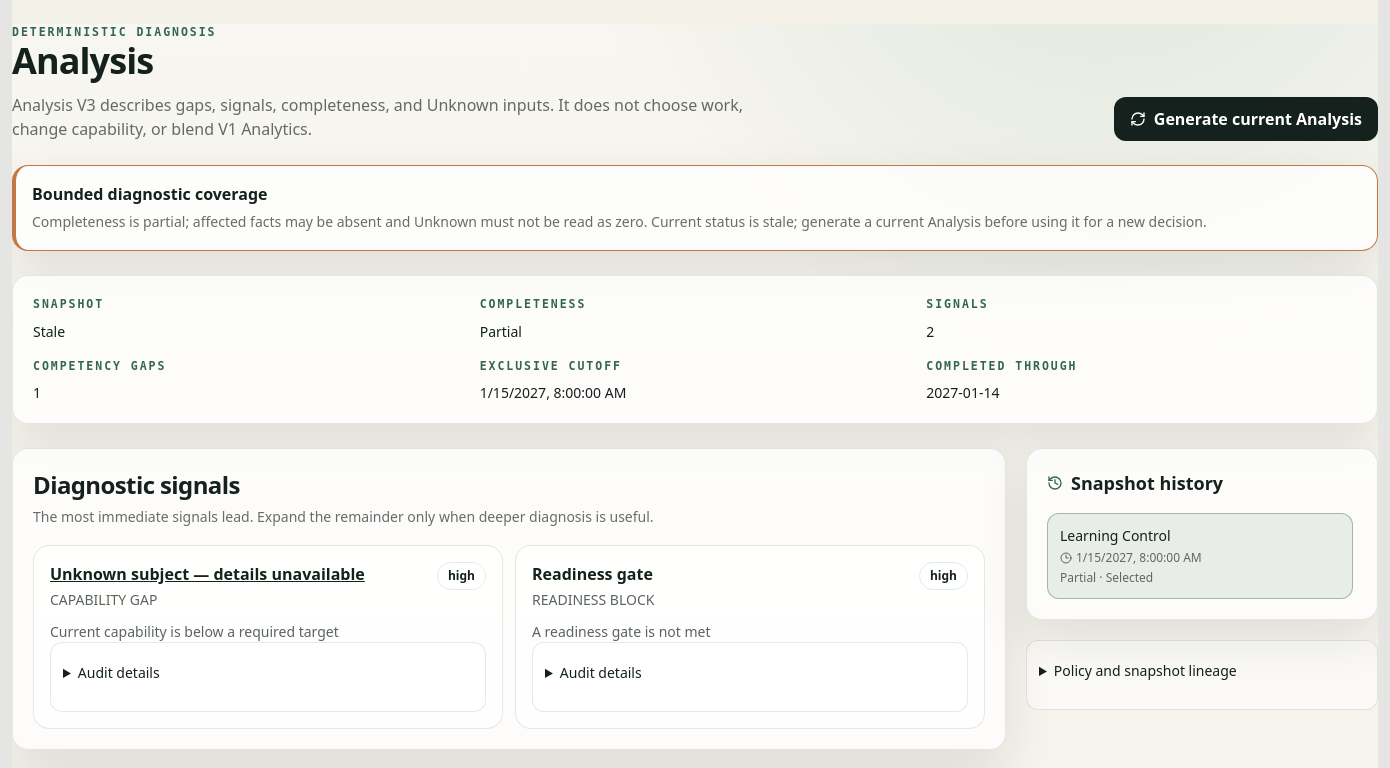
Scenario: Analysis V3 diagnostic surface › explicitly generates a current Analysis snapshot without requiring a raw ID
The width and height of the screenshot is (1390, 768).
Click the button "Generate current Analysis". click: click(1246, 119)
box: [1114,97,1378,141]
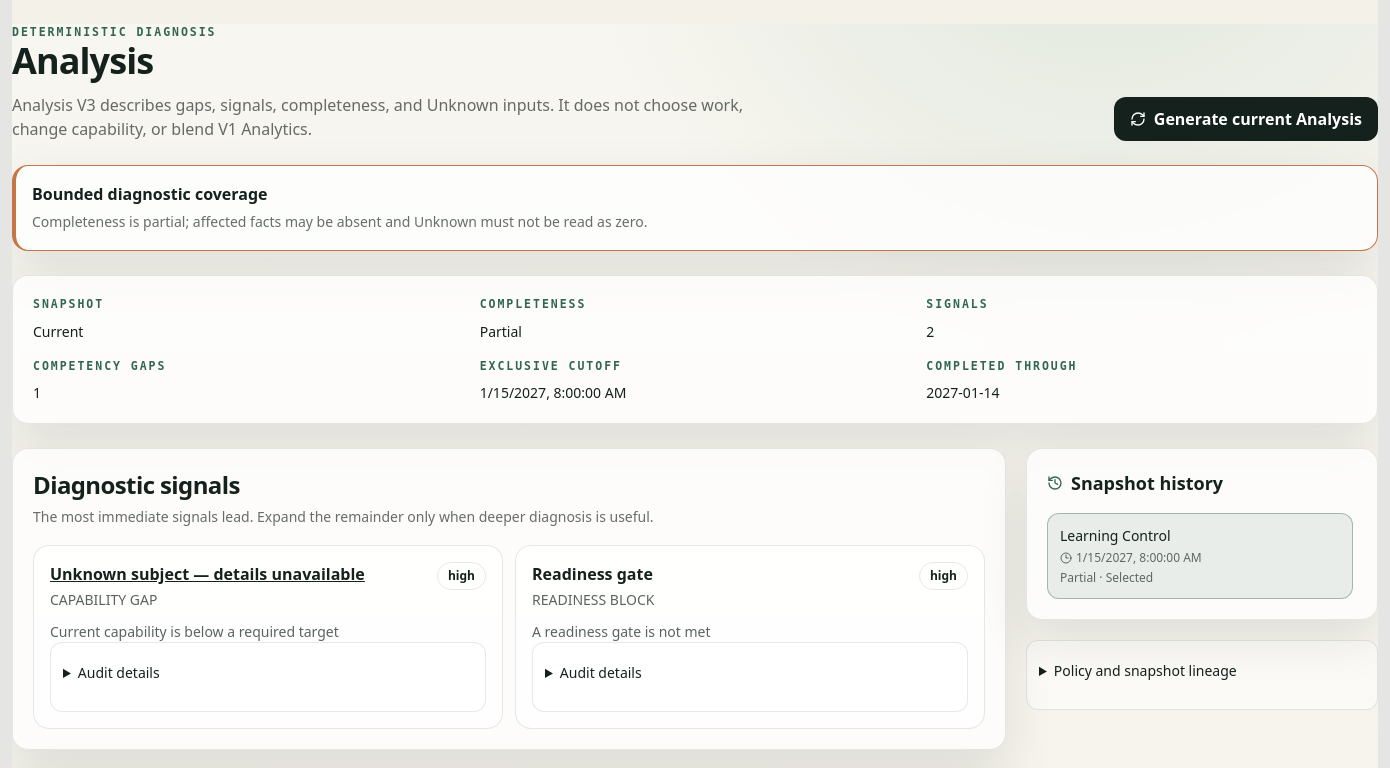
Expected: the text "current" is shown, [33,322,83,340]
